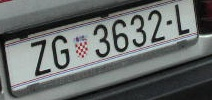2: (147, 9, 166, 42)
3: (130, 13, 146, 46)
6: (111, 18, 130, 53)
G: (50, 35, 73, 72), (95, 23, 110, 58)
L: (173, 3, 193, 37)
Z: (28, 40, 53, 76)
